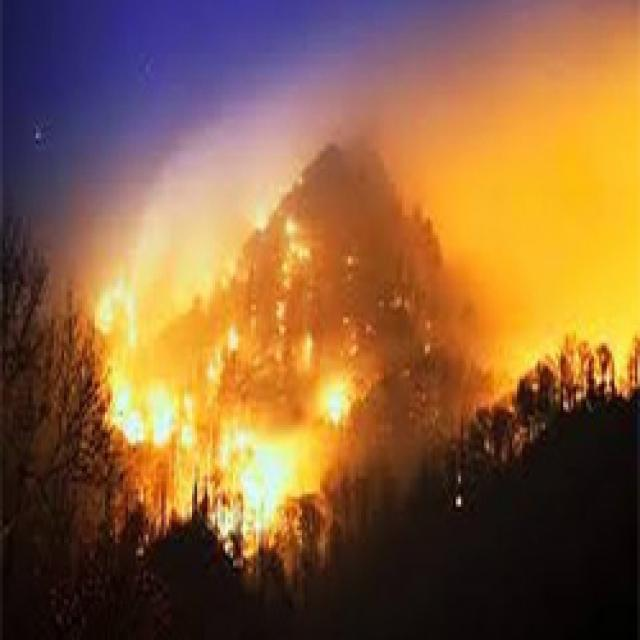Fire: (206, 426, 300, 555), (98, 360, 198, 444), (82, 274, 144, 349), (198, 323, 249, 380), (310, 375, 350, 422)
Smoke: (130, 0, 638, 323), (0, 138, 130, 272), (471, 322, 640, 412)
